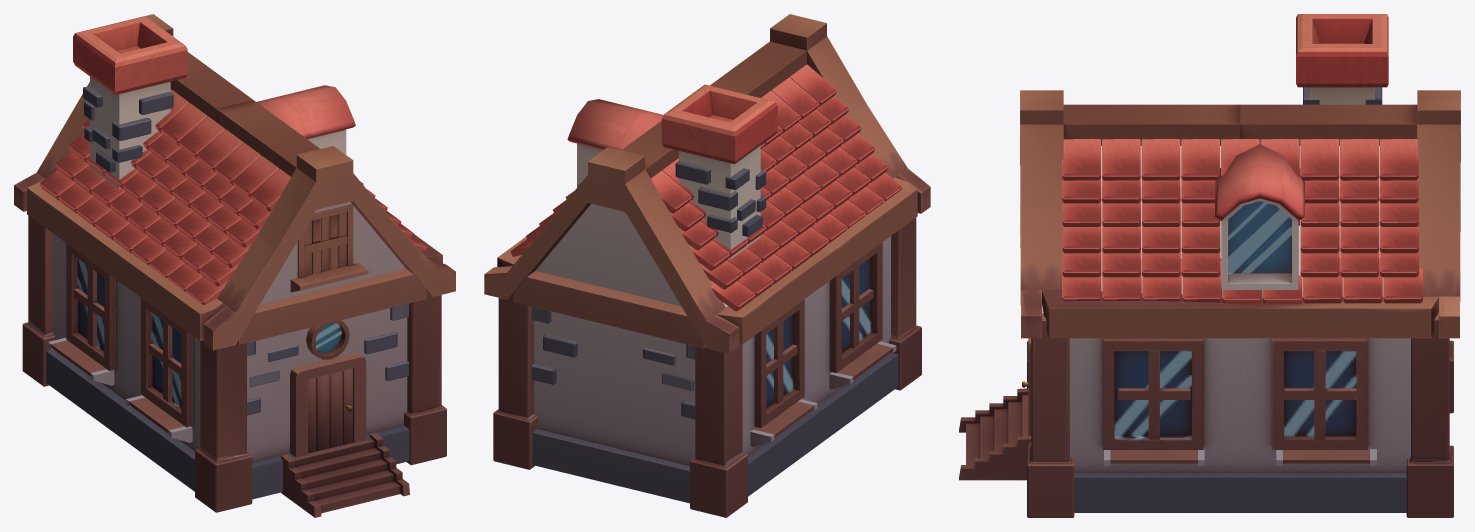
Rendered from House_Shiba.fbx.
3 renders of one model, left to right at view 1: azimuth 30°, elevation 25°; view 2: azimuth 150°, elevation 25°; view 3: azimuth 270°, elevation 25°, orthographic. The views are drawn at different scales.
Parts seen in each view (by area): view 1: Cube.005; view 2: Cube.005; view 3: Cube.005.
Boxes of the visible parts, x1,y1,x2,y2 form: Cube.005: (14,14,455,517); Cube.005: (484,14,930,517); Cube.005: (959,14,1460,517).
Size of the model in its own units: 478 by 652 by 753.
2 materials, 2 textured.
